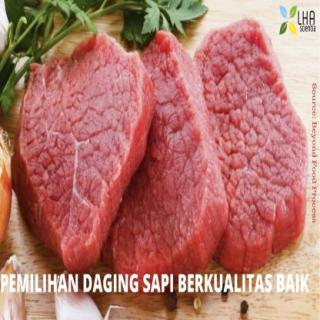Daging Sapi: (97, 31, 230, 273), (20, 37, 146, 268), (198, 24, 309, 270)
